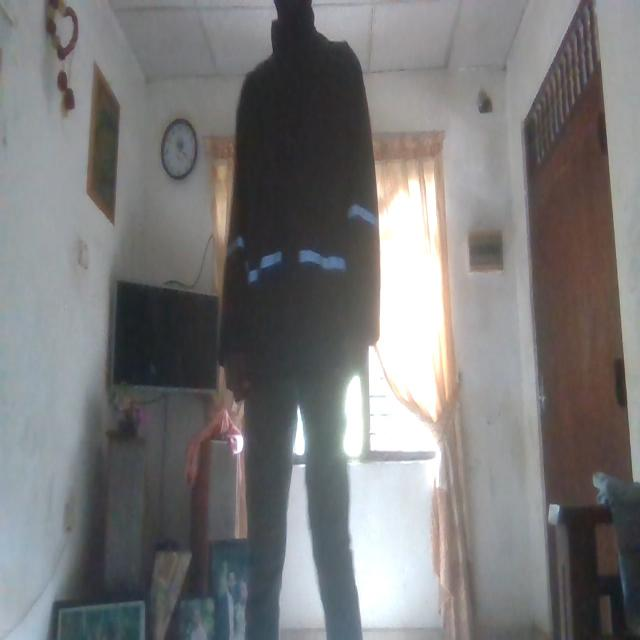Jacket_Wearer: (218, 18, 382, 366)
Person: (214, 1, 384, 640)
